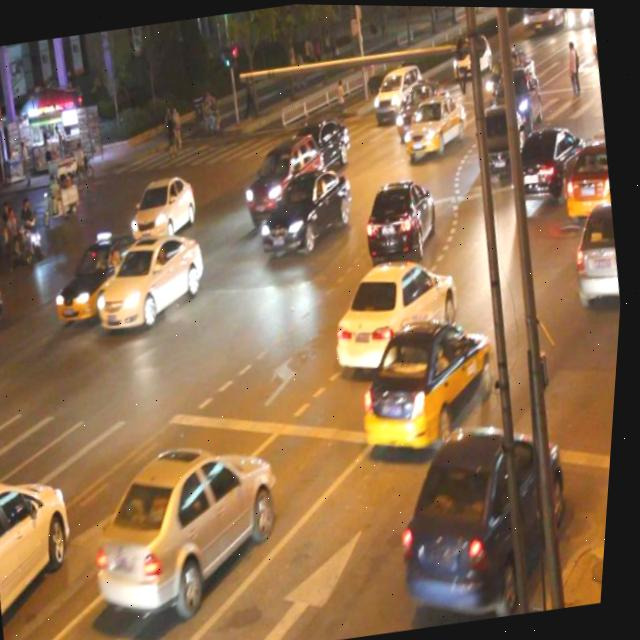car: (388, 410, 588, 625), (86, 430, 303, 625), (353, 311, 510, 457), (326, 248, 470, 371), (0, 464, 95, 625), (91, 226, 216, 333), (49, 231, 156, 324), (254, 163, 361, 256), (240, 132, 332, 224), (359, 172, 446, 261), (508, 118, 593, 204), (567, 199, 629, 306), (126, 171, 205, 244), (397, 88, 474, 158), (558, 135, 619, 217), (471, 100, 531, 177), (284, 112, 356, 173), (390, 79, 455, 137), (0, 269, 16, 358)
